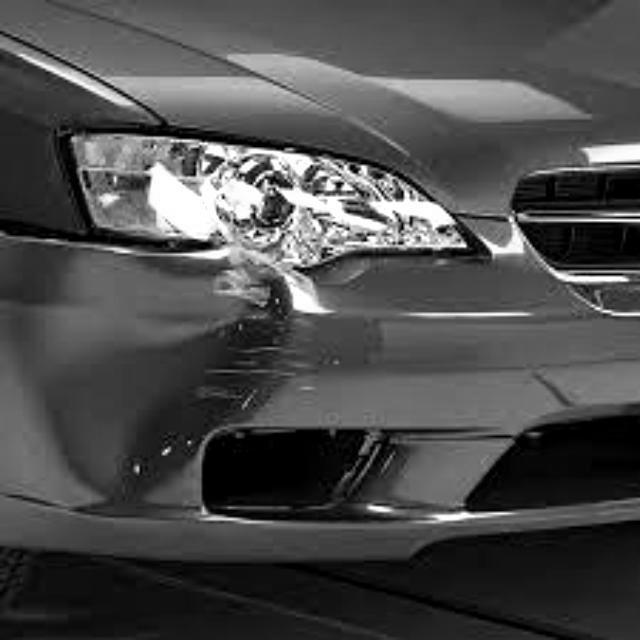front-bumper-dent: (12, 274, 458, 512)
